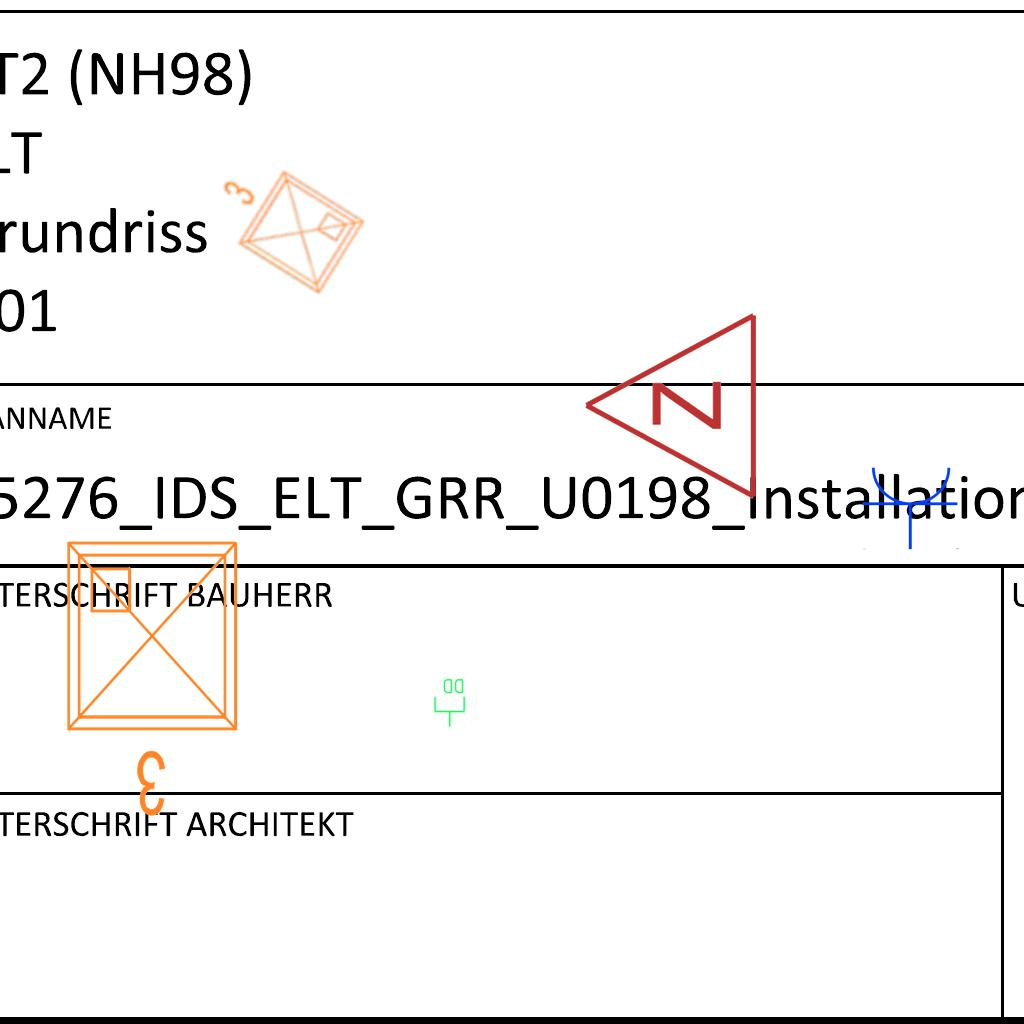Datenanschluss_zweifach: (433, 677, 467, 728)
Einbaudownlights_LED_Konferenzraeume: (52, 527, 260, 827), (191, 139, 375, 307)
Schukosteckdose_einfach: (861, 463, 961, 550)
Zimmersignalleuchte: (571, 310, 771, 506)
